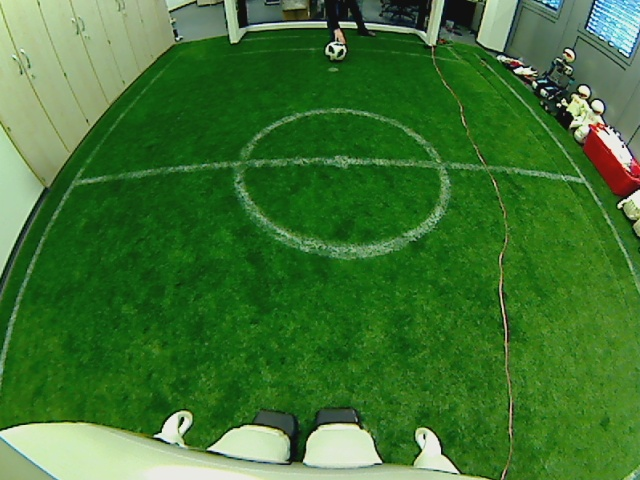ball: (325, 41, 346, 62)
